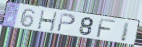6: (20, 8, 36, 29)
8: (78, 17, 95, 37)
F: (95, 18, 117, 40)
H: (36, 9, 58, 33)
I: (120, 21, 132, 43)
P: (56, 12, 77, 34)
